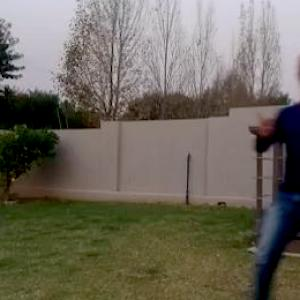takeoff-hand: (252, 102, 279, 140)
